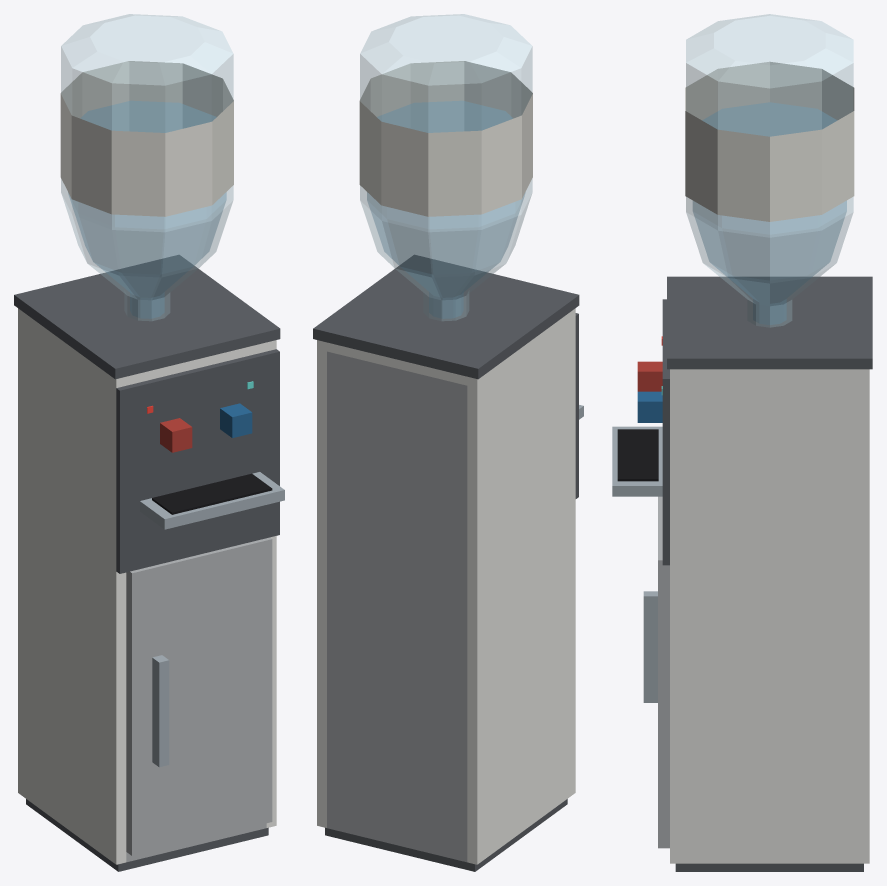
The model's file is GO_WaterCooler_01.glb.
The picture shows the model from 3 angles, left to right: view 1: azimuth 30°, elevation 25°; view 2: azimuth 150°, elevation 25°; view 3: azimuth 270°, elevation 25°; orthographic projection.
Parts seen in each view (by area): view 1: GO_WaterCooler_01, Door; view 2: GO_WaterCooler_01; view 3: GO_WaterCooler_01, Door.
Part boxes in pixels (x1,y1,x2,y2): GO_WaterCooler_01: (14,14,284,871); Door: (126,537,272,855); GO_WaterCooler_01: (313,14,583,871); GO_WaterCooler_01: (612,14,872,871); Door: (643,496,669,848).
Bounding box in the file's own units: 0.33 × 1.49 × 0.443.
Materials: 2 (2 with a texture image).
